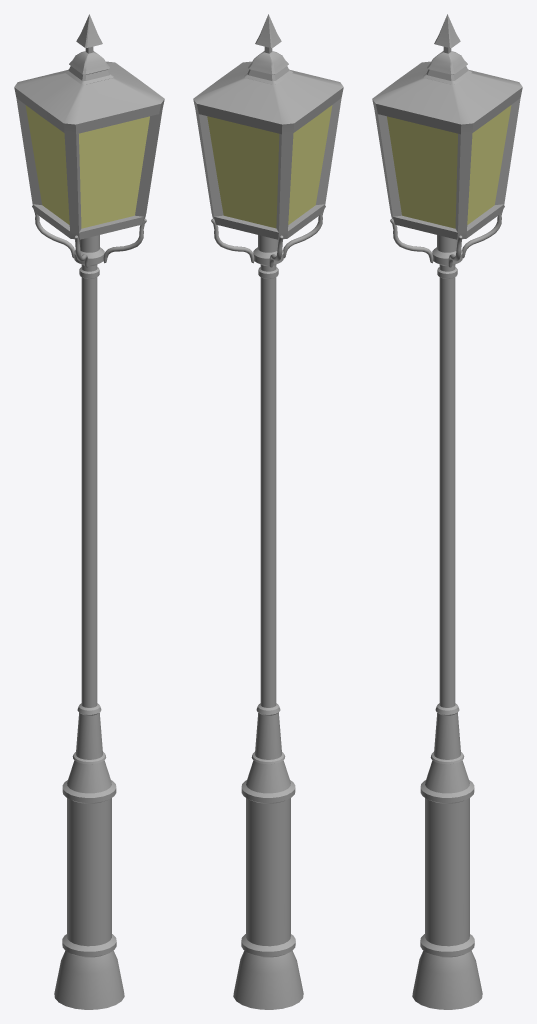
Rendered from mesh_lamppost.fbx.
The picture shows the model from 3 angles, left to right: view 1: azimuth 30°, elevation 25°; view 2: azimuth 150°, elevation 25°; view 3: azimuth 330°, elevation 25°; orthographic projection.
Visible parts, largest first — view 1: lamppost1; view 2: lamppost1; view 3: lamppost1.
Part boxes in pixels (x1,y1,x2,y2): lamppost1: (14,14,164,1009); lamppost1: (193,14,343,1009); lamppost1: (372,14,522,1009).
Size of the model in its own units: 0.3059 by 2.82 by 0.3021.
